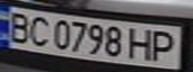0: (48, 17, 72, 51)
7: (66, 19, 87, 53)
8: (103, 24, 127, 58)
9: (84, 21, 106, 56)
B: (3, 9, 33, 44)
C: (24, 14, 54, 47)
H: (124, 26, 157, 61)
P: (148, 28, 184, 63)
